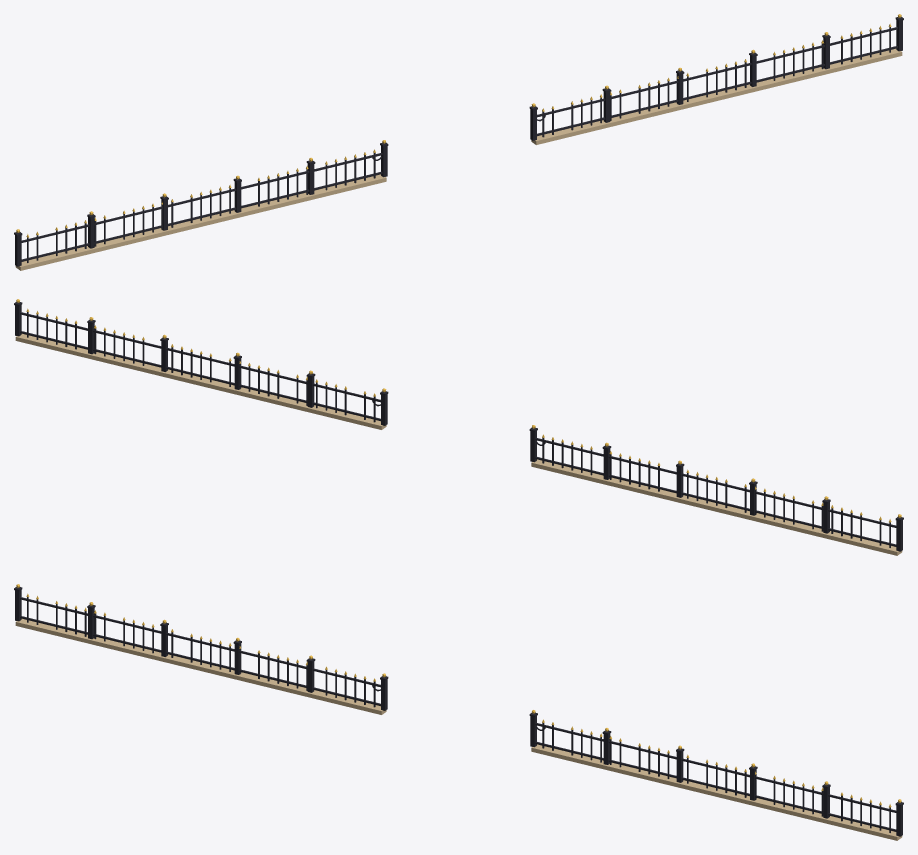
The model's file is CatCafe_Lawn_Fence_IronRailing.glb.
3 views of the same model, one above another, from view 1: azimuth 30°, elevation 25°; view 2: azimuth 150°, elevation 25°; view 3: azimuth 330°, elevation 25° (orthographic).
Parts seen in each view (by area): view 1: CatCafe_Lawn_Fence_IronRailing; view 2: CatCafe_Lawn_Fence_IronRailing; view 3: CatCafe_Lawn_Fence_IronRailing.
Boxes of the visible parts, x1,y1,x2,y2 form: CatCafe_Lawn_Fence_IronRailing: (14,14,903,270); CatCafe_Lawn_Fence_IronRailing: (14,299,903,555); CatCafe_Lawn_Fence_IronRailing: (14,584,903,840).
Size of the model in its own units: 46.28 by 2 by 0.44.
1 material, 1 textured.
